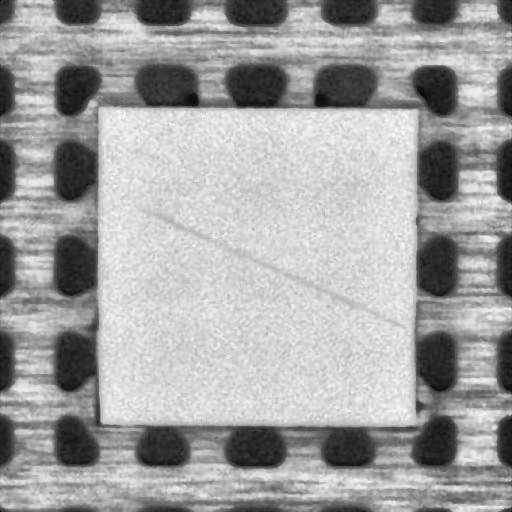DIE_CRACK: (138, 208, 401, 326)
